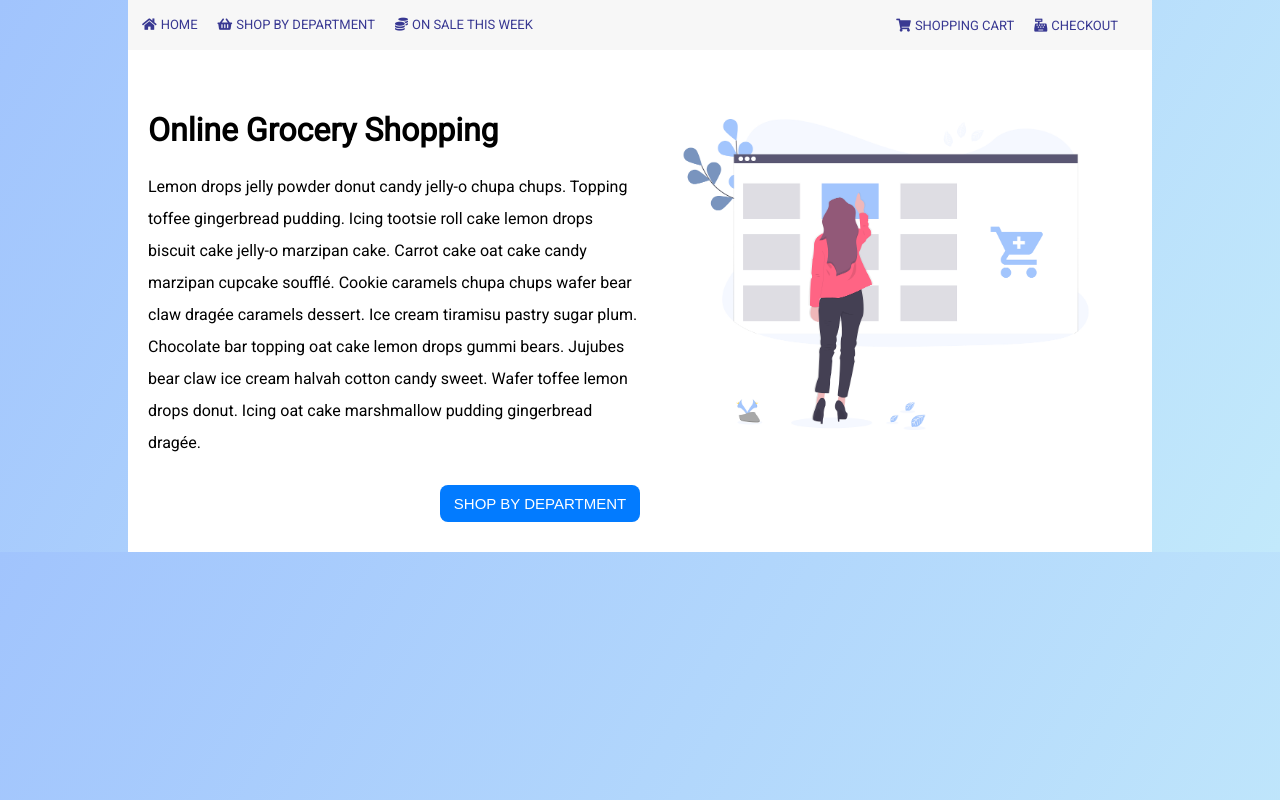
Navigation Tests › Visits the home path and tests the "Shopping Cart" navigation link
The image size is (1280, 800).
Click the link with class "cart".
click(955, 26)  # box [896,18,1014,33]
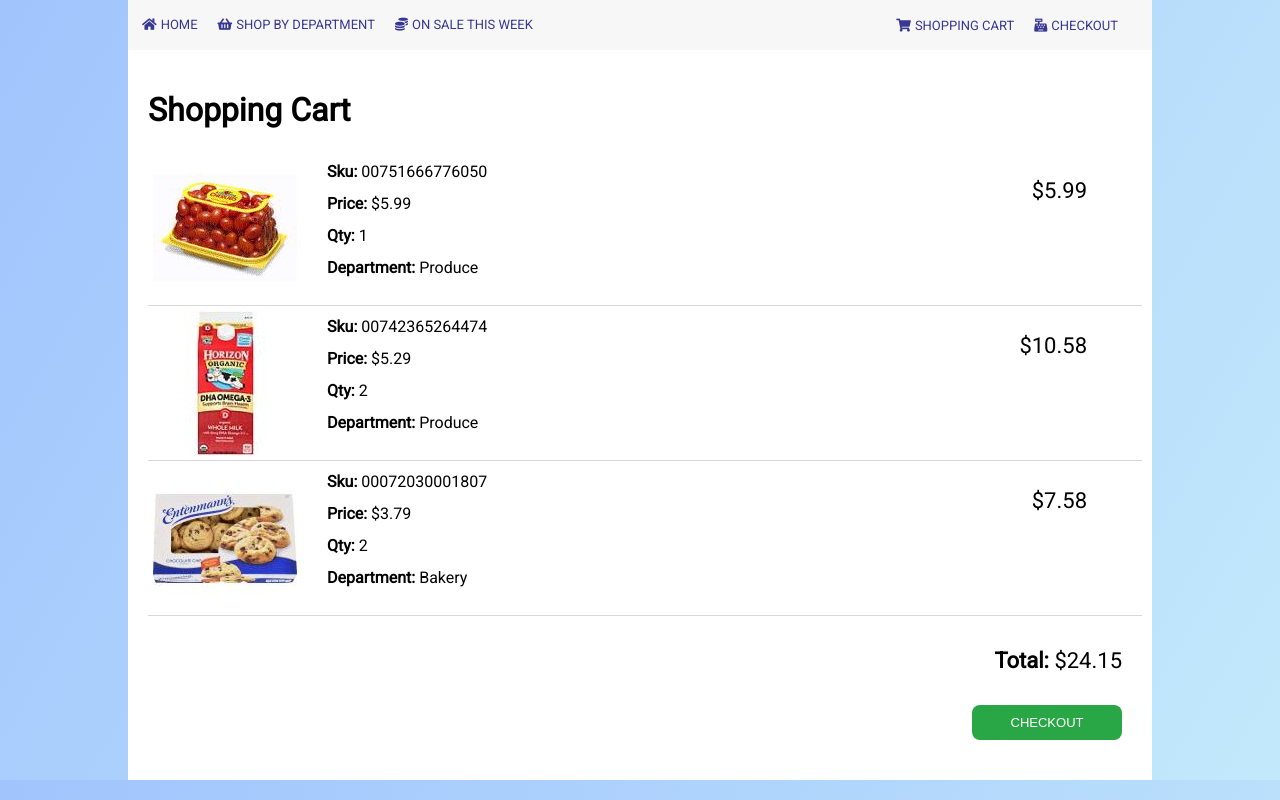
Check: the heading "Shopping Cart" is shown, box [148,91,350,129]
